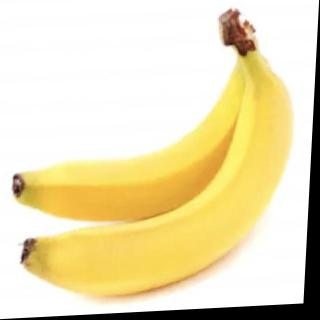banana: (17, 79, 300, 306), (10, 70, 274, 230)
